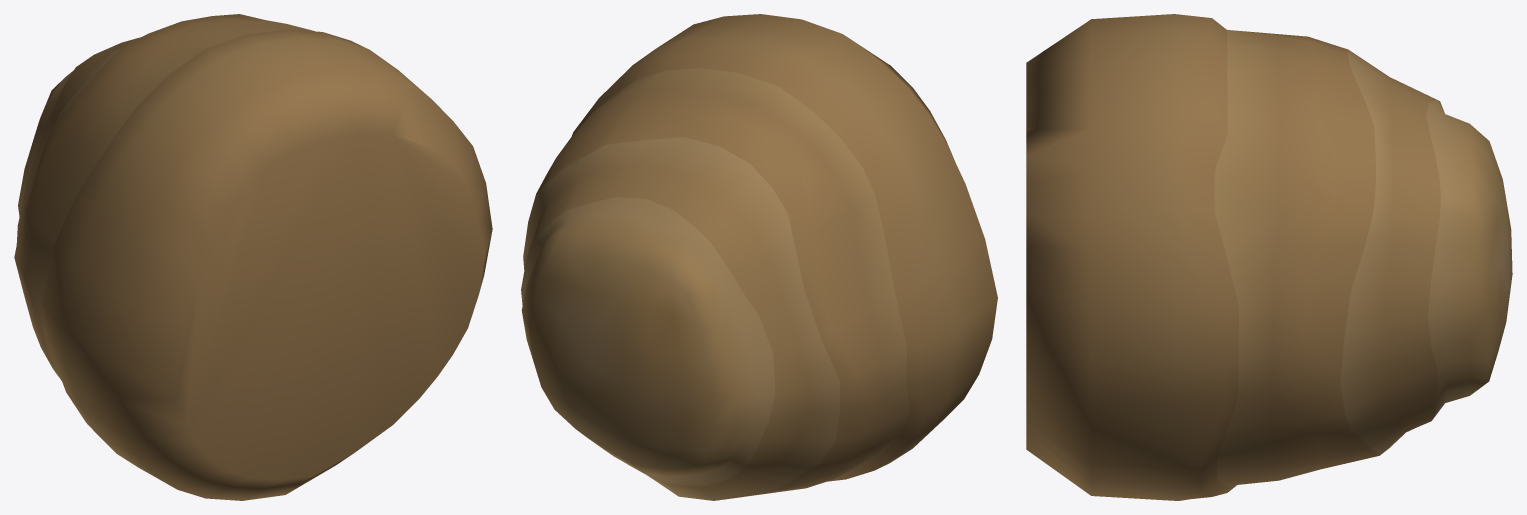
The model's file is SandHill.003.glb.
3 views of the same model, side by side, from view 1: azimuth 30°, elevation 25°; view 2: azimuth 150°, elevation 25°; view 3: azimuth 270°, elevation 25° (orthographic). The views are drawn at different scales.
Visible parts, largest first — view 1: SandHill.003; view 2: SandHill.003; view 3: SandHill.003.
Boxes of the visible parts, x1,y1,x2,y2 form: SandHill.003: (14, 14, 492, 500); SandHill.003: (521, 14, 997, 500); SandHill.003: (1026, 14, 1512, 500).
Size of the model in its own units: 4193 by 4310 by 4065.
